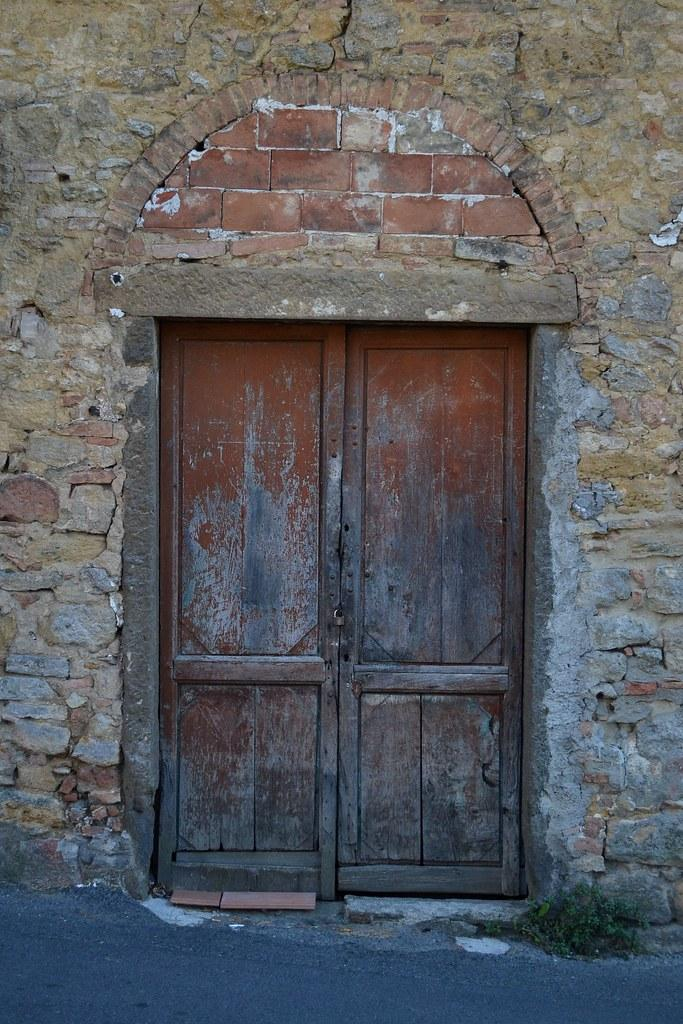door: (156, 318, 530, 903)
